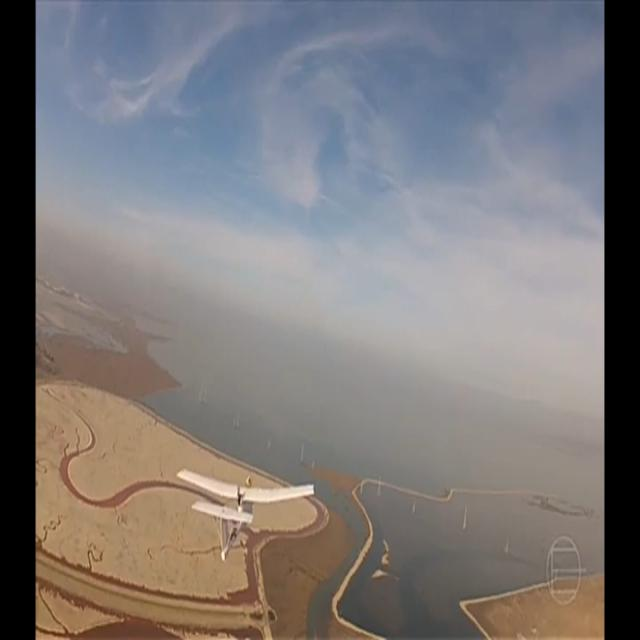iha: (179, 498, 312, 530)
